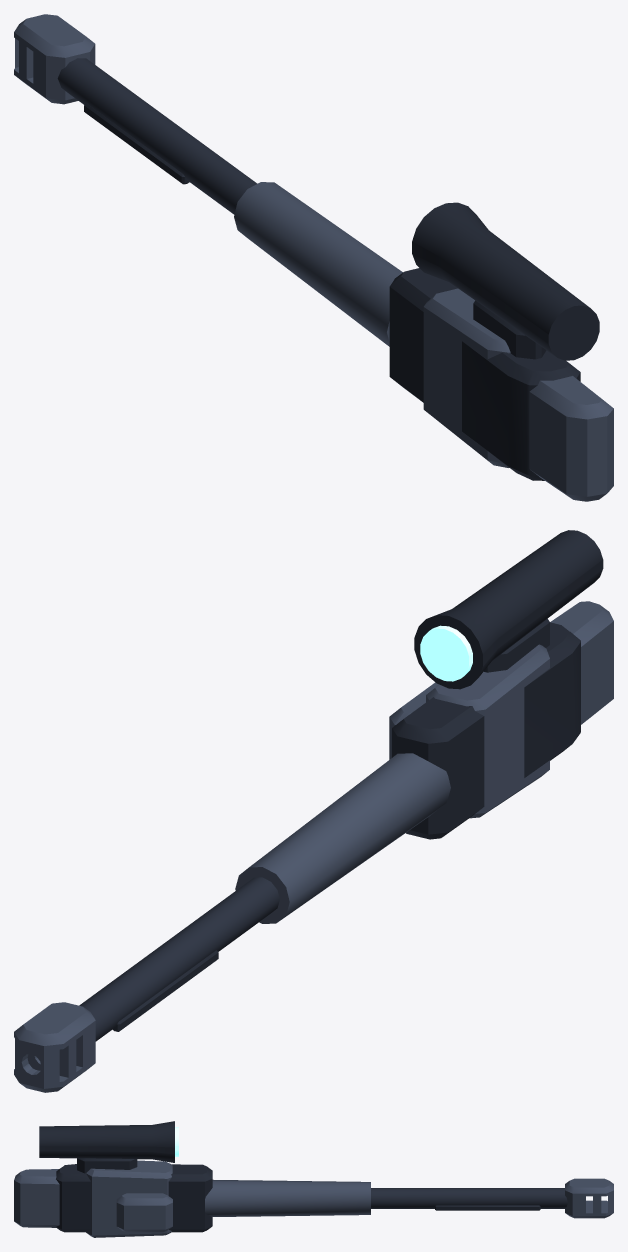
File: w_a_sniper_gun.glb
3 renders of one model, top to bottom at view 1: azimuth 30°, elevation 25°; view 2: azimuth 150°, elevation 25°; view 3: azimuth 270°, elevation 25°, orthographic. The views are drawn at different scales.
Parts seen in each view (by area): view 1: weapon_body, weapon_metal; view 2: weapon_body, weapon_metal, weapon; view 3: weapon_body, weapon_metal.
Boxes of the visible parts, x1,y1,x2,y2 form: weapon_body: [14, 14, 613, 501]; weapon_metal: [57, 58, 257, 214]; weapon_body: [14, 530, 613, 1092]; weapon_metal: [79, 877, 279, 1041]; weapon: [420, 625, 472, 681]; weapon_body: [14, 1121, 613, 1237]; weapon_metal: [371, 1188, 567, 1208].
Bounding box in the file's own units: 0.9909 × 1.92 × 9.55.
